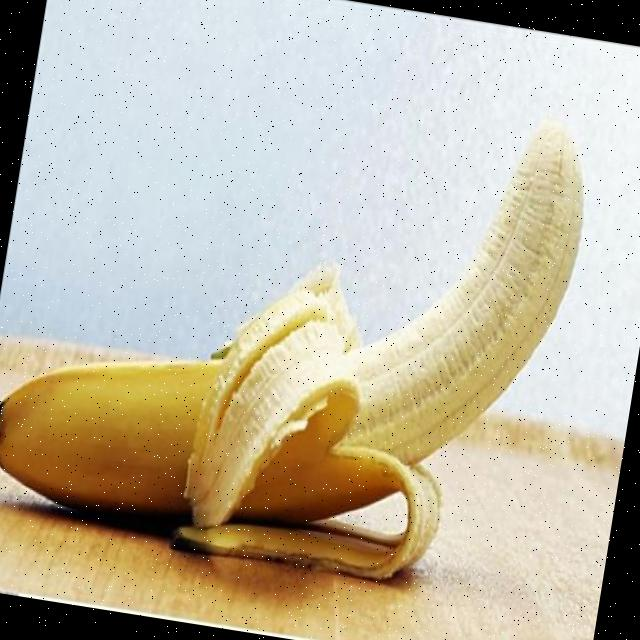banana-peel: (0, 39, 600, 603)
